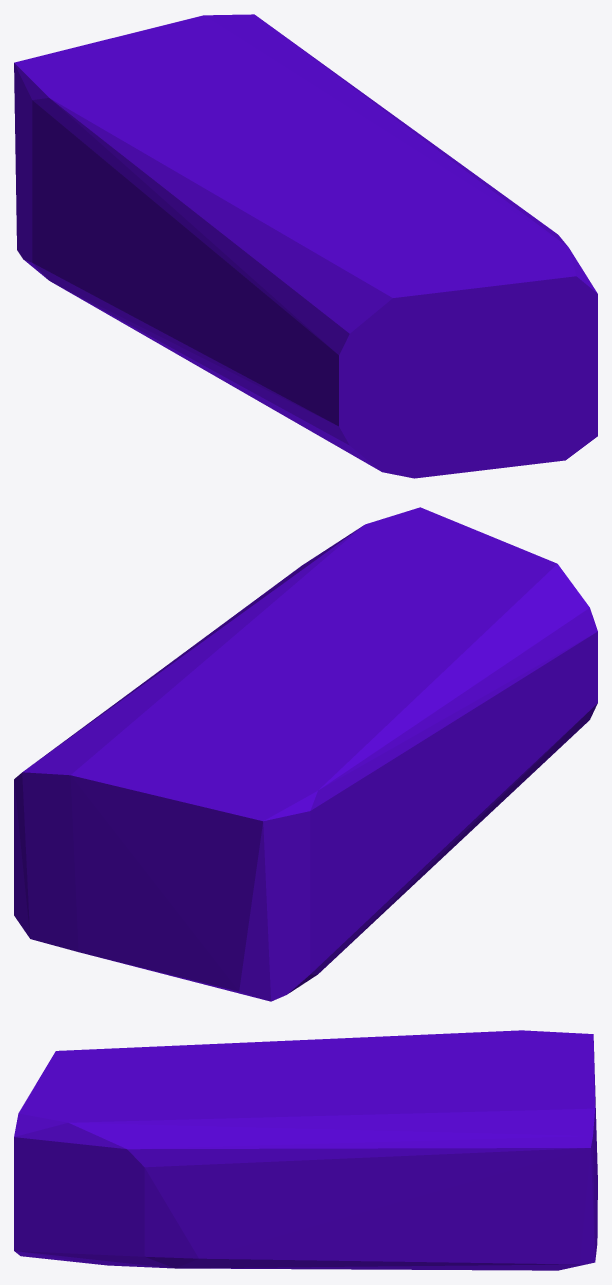
The model's file is model0_convex_piece_024.obj.
3 renders of one model, top to bottom at view 1: azimuth 30°, elevation 25°; view 2: azimuth 150°, elevation 25°; view 3: azimuth 270°, elevation 25°, orthographic. The views are drawn at different scales.
Size of the model in its own units: 0.0198 by 0.0125 by 0.0453.
